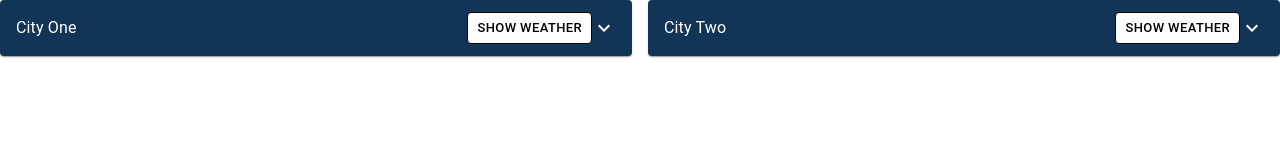
Test: CityGrid › renders loading indicator when loading is true
This screenshot has width=1280, height=160.
Step 1. Click the text "City One" → (46, 28), box [16,18,77,37]
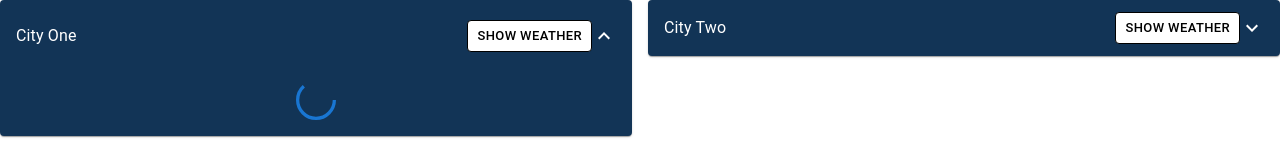
Result: the progress indicator is shown at [296,80,336,120]
